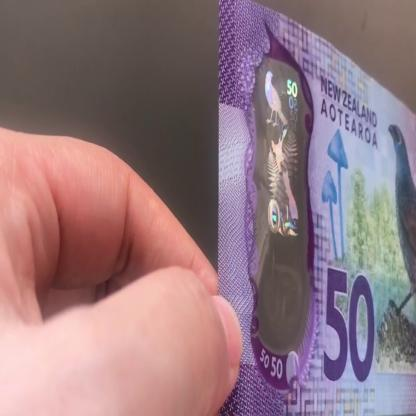50B: (261, 64, 301, 334)
